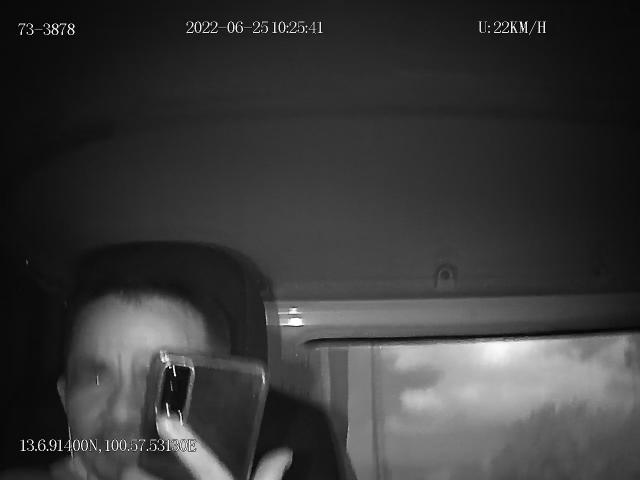Phone: (134, 348, 268, 480)
